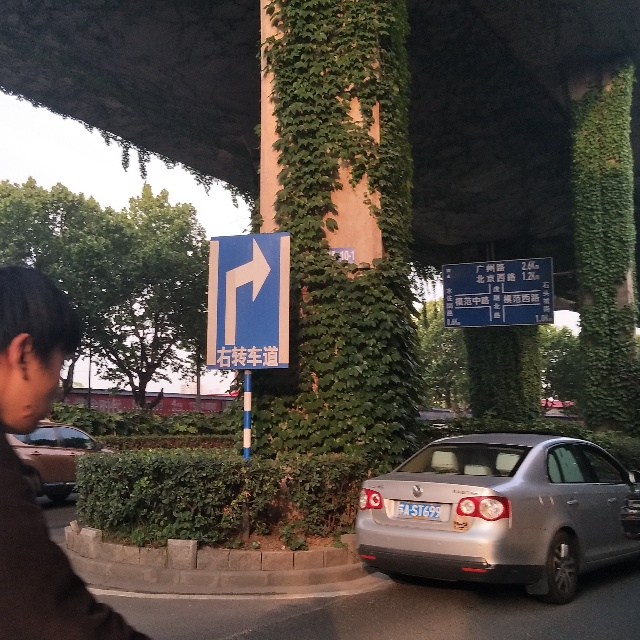right: (216, 237, 278, 357)
